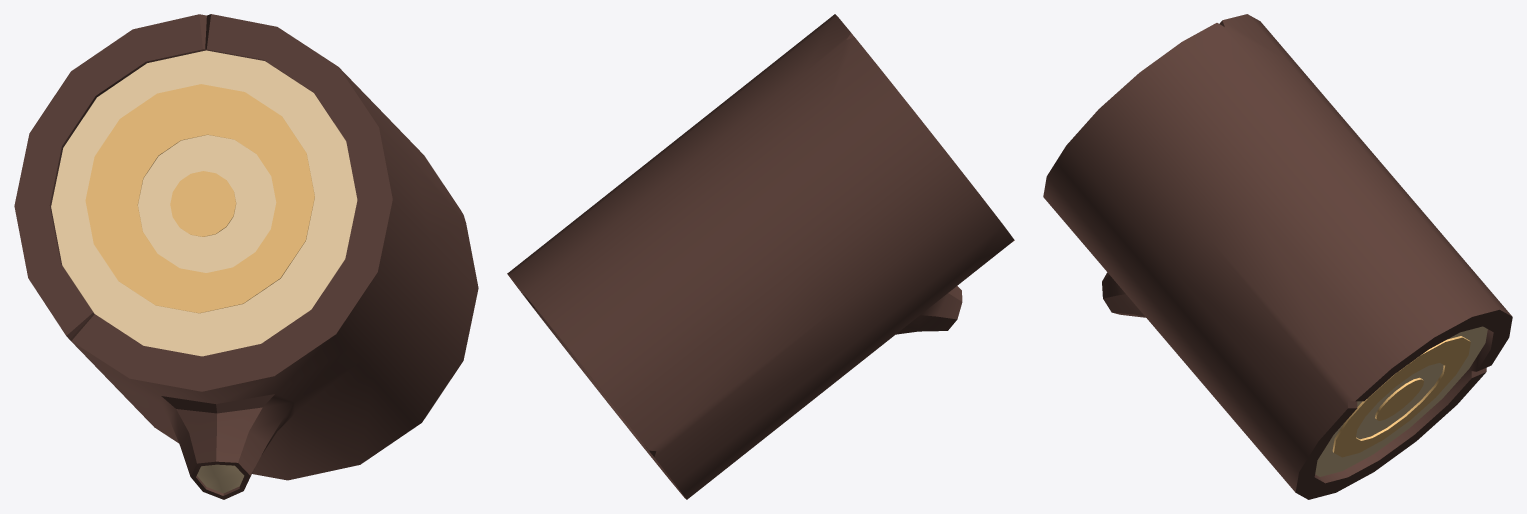
File: wood.glb
3 views of the same model, side by side, from view 1: azimuth 30°, elevation 25°; view 2: azimuth 150°, elevation 25°; view 3: azimuth 270°, elevation 25° (orthographic). The views are drawn at different scales.
Parts seen in each view (by area): view 1: Circle.2345; view 2: Circle.2345; view 3: Circle.2345.
Boxes of the visible parts, box(x1,y1,x2,y2) form: Circle.2345: box(14, 14, 478, 499); Circle.2345: box(507, 14, 1014, 499); Circle.2345: box(1043, 14, 1512, 499).
Size of the model in its own units: 1.94 by 1.95 by 2.01.
Materials: 1 (1 with a texture image).
